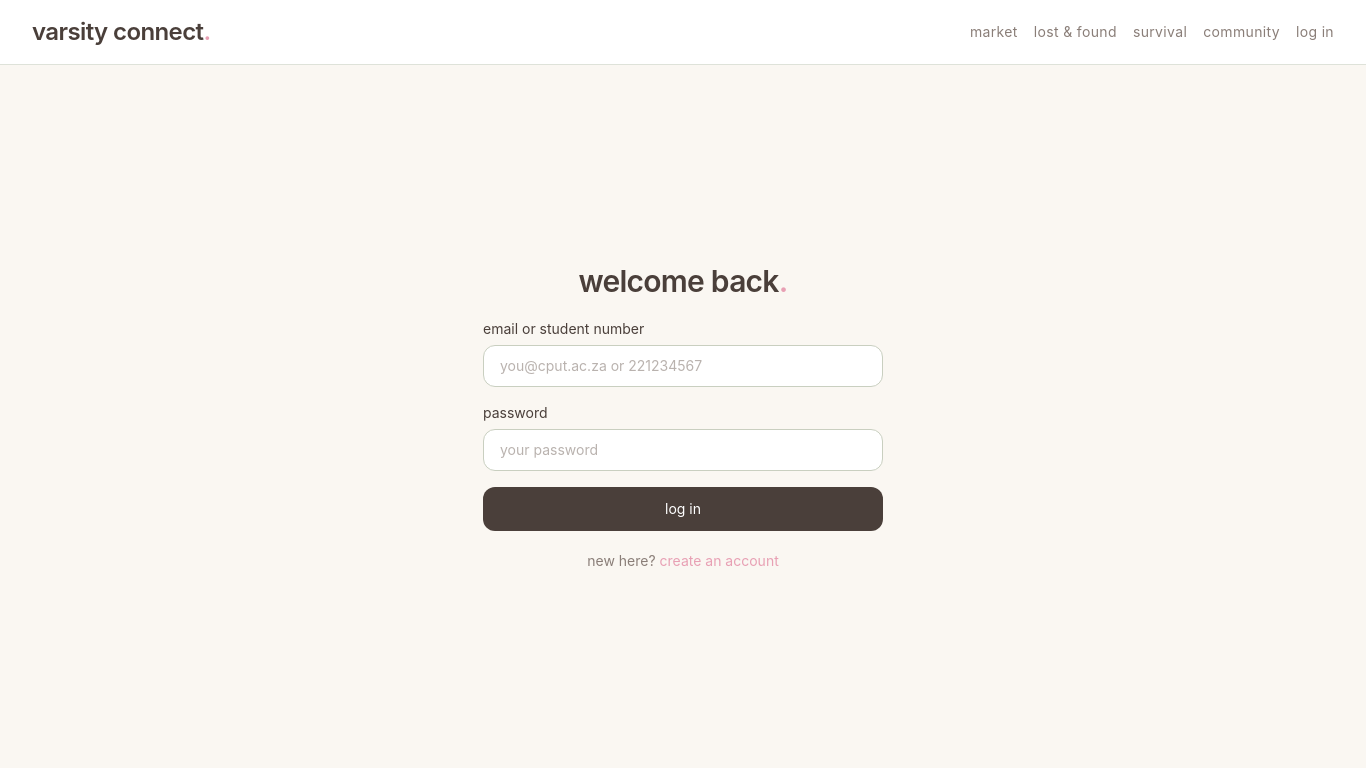
Test: login page › shows validation errors on empty submit
Click the button "log in". click: click(683, 508)
box: [483,486,883,530]
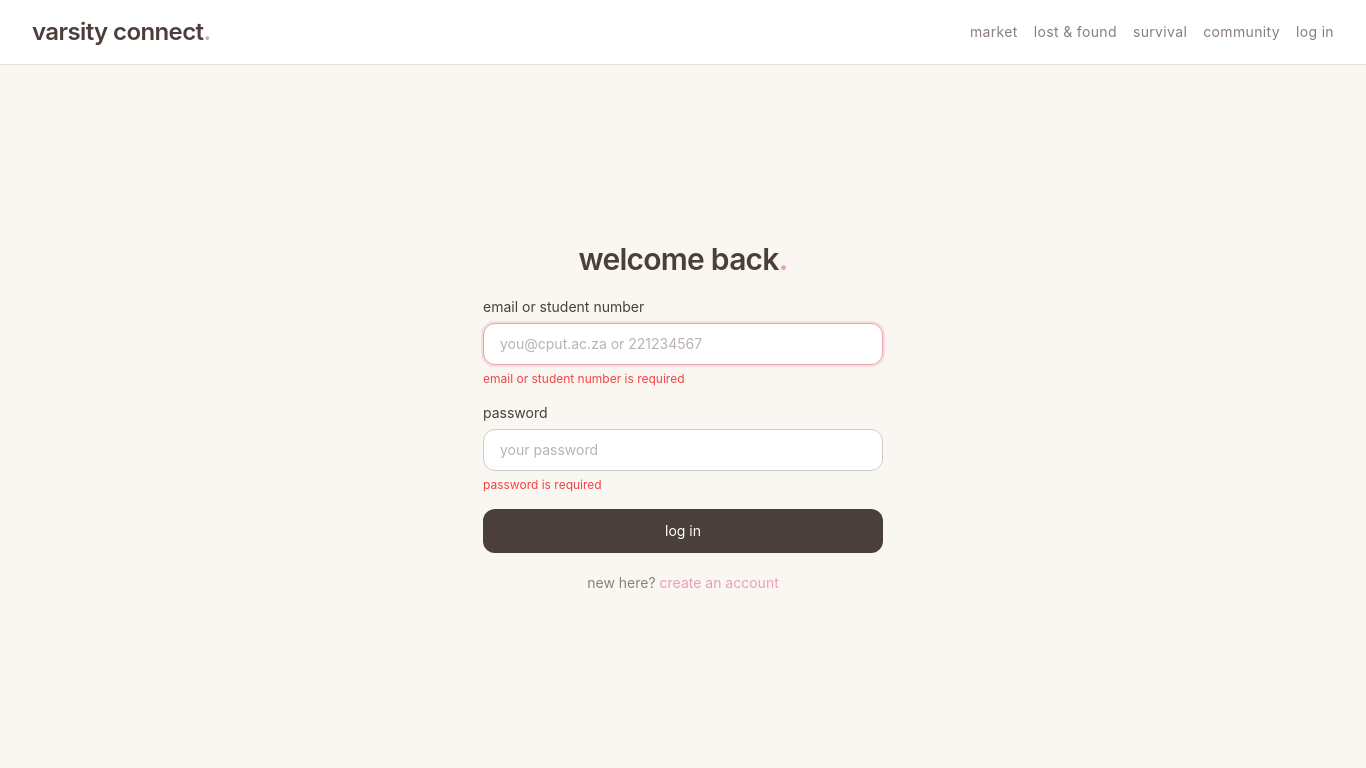
Expected: the text "email or student number is required" is shown, [483,370,684,386]
Expected: the text "password is required" is shown, [483,476,602,492]
